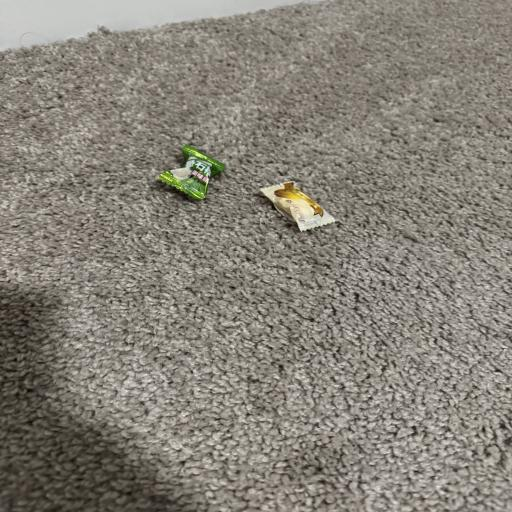chocolate: (261, 183, 335, 231), (158, 146, 225, 199)
